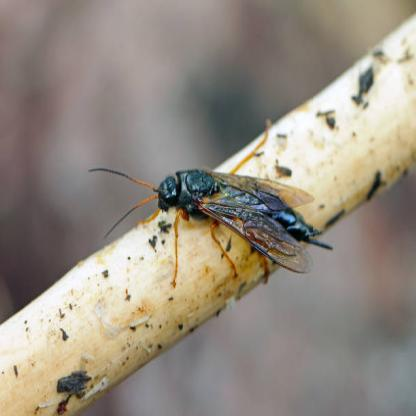sawfly: (94, 122, 334, 290)
